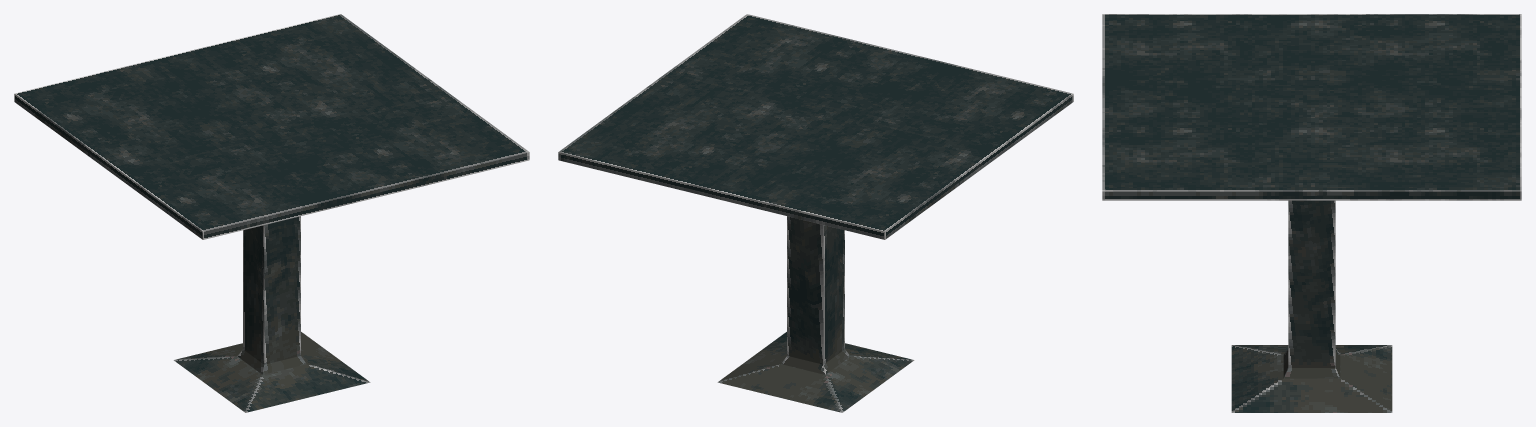
Rendered from table.glb.
The picture shows the model from 3 angles, left to right: view 1: azimuth 30°, elevation 25°; view 2: azimuth 150°, elevation 25°; view 3: azimuth 270°, elevation 25°; orthographic projection. The views are drawn at different scales.
Visible parts, largest first — view 1: Table-col; view 2: Table-col; view 3: Table-col.
Boxes of the visible parts, x1,y1,x2,y2 form: Table-col: (14,14,529,412); Table-col: (558,14,1073,412); Table-col: (1102,14,1521,412).
Bounding box in the file's own units: 2 × 1.45 × 2.
1 material, 1 textured.
